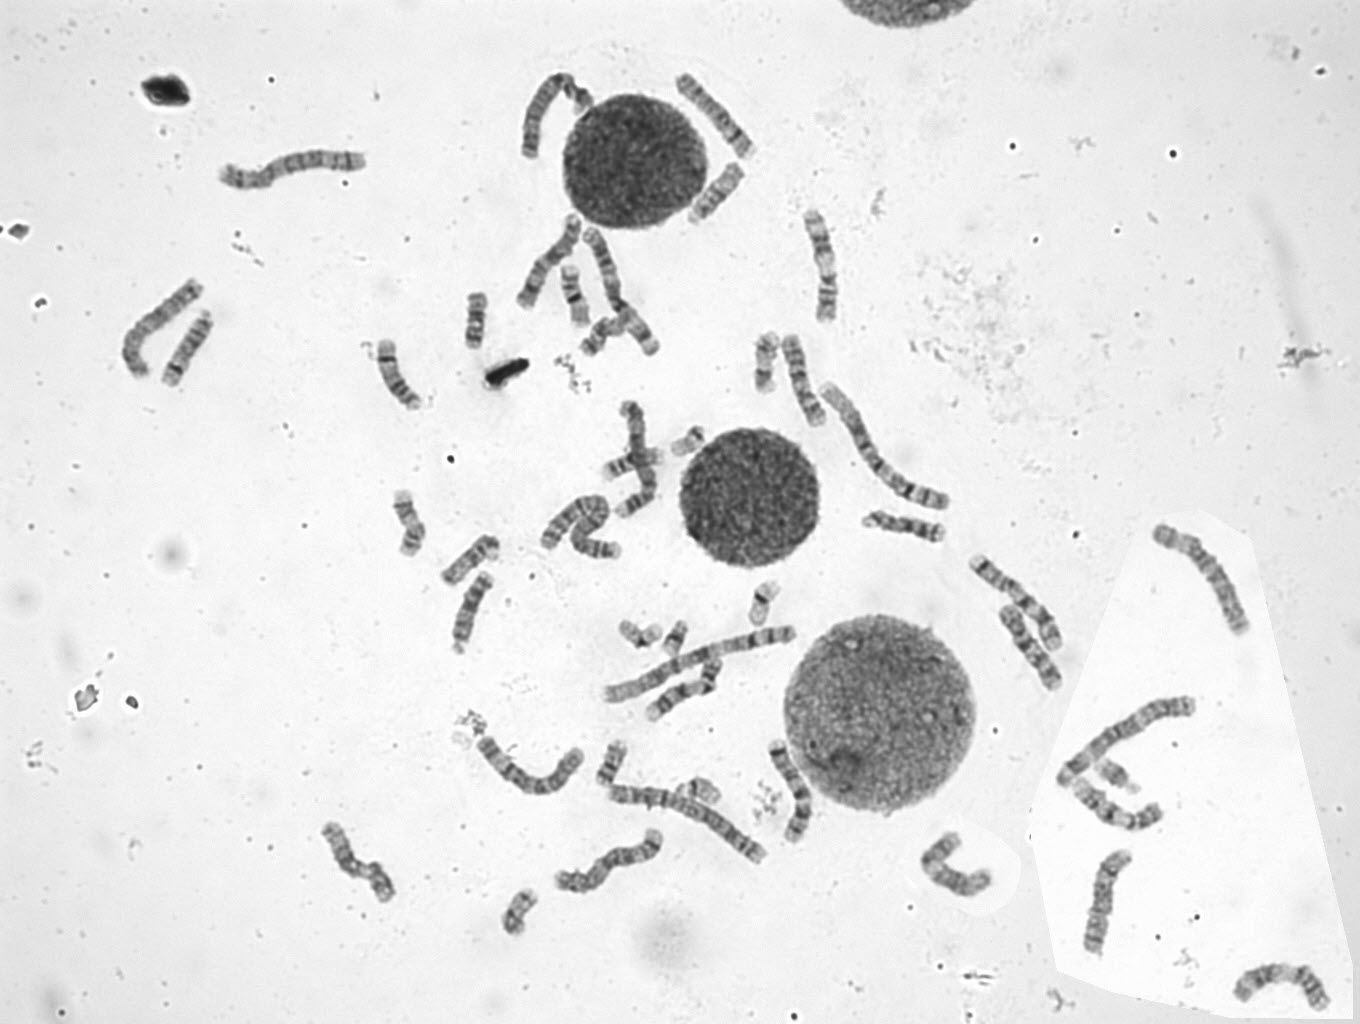chromosomes: (817, 378, 955, 511), (598, 624, 802, 711), (1050, 695, 1201, 797), (603, 780, 765, 865), (1149, 522, 1254, 642), (962, 551, 1072, 653), (584, 226, 661, 360), (114, 274, 207, 383), (552, 825, 668, 898), (509, 70, 597, 162), (671, 73, 759, 162), (511, 213, 586, 316), (217, 146, 373, 195), (471, 733, 583, 799), (318, 823, 400, 908), (606, 401, 661, 527), (993, 606, 1069, 695), (1229, 959, 1341, 1018), (1084, 844, 1139, 963), (542, 492, 624, 568), (762, 739, 817, 848), (155, 305, 221, 394), (638, 659, 726, 724), (919, 829, 996, 900), (781, 330, 834, 429), (1071, 779, 1170, 833), (802, 201, 839, 330), (446, 570, 496, 665), (686, 162, 748, 233), (436, 532, 501, 589), (373, 339, 421, 414), (862, 508, 953, 547), (596, 442, 667, 483), (557, 262, 596, 332), (389, 488, 427, 558), (574, 311, 622, 362), (1091, 755, 1145, 800), (749, 323, 779, 399), (498, 884, 536, 941), (610, 613, 664, 653), (593, 734, 629, 793), (747, 578, 787, 629), (668, 422, 716, 461), (671, 781, 731, 810), (464, 286, 488, 352), (660, 618, 695, 659)
